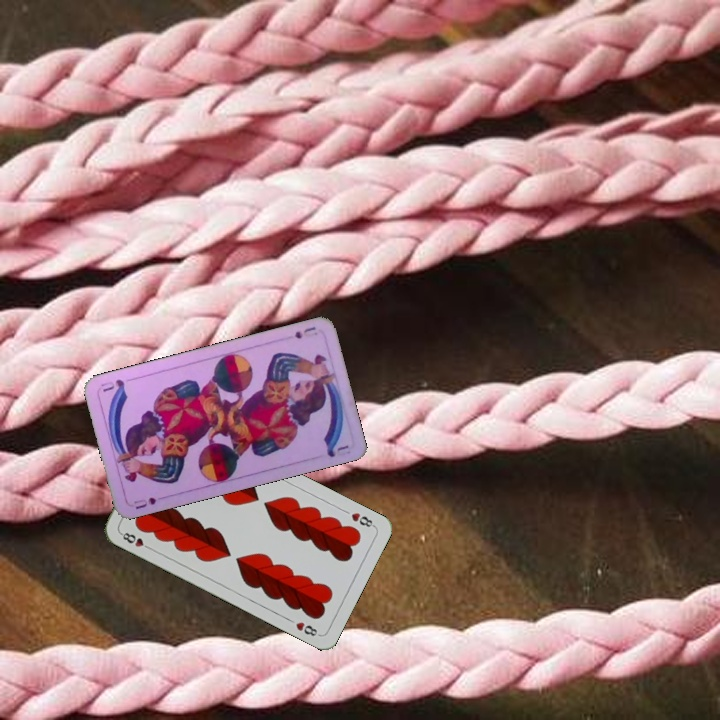H8: (116, 528, 154, 552), (347, 508, 378, 530)
SU: (130, 492, 168, 512), (290, 322, 318, 341)
